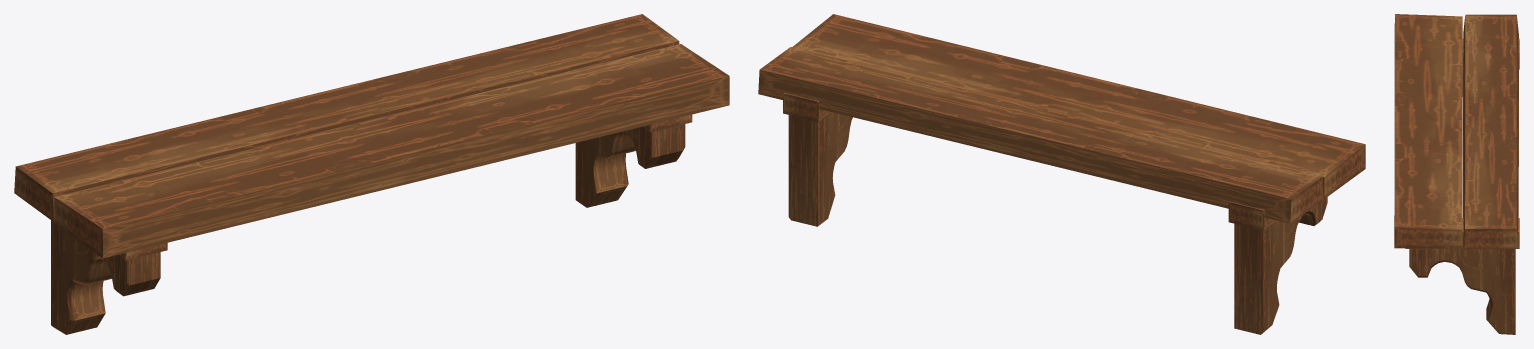
File: Shelf_Simple.gltf
3 views of the same model, side by side, from view 1: azimuth 30°, elevation 25°; view 2: azimuth 150°, elevation 25°; view 3: azimuth 270°, elevation 25° (orthographic). The views are drawn at different scales.
Parts seen in each view (by area): view 1: Shelf_Simple; view 2: Shelf_Simple; view 3: Shelf_Simple.
Part boxes in pixels (left/top/right/bottom): Shelf_Simple: left=14, top=14, right=729, bottom=334; Shelf_Simple: left=758, top=14, right=1365, bottom=334; Shelf_Simple: left=1394, top=14, right=1519, bottom=334.
Size of the model in its own units: 1.18 by 0.3087 by 0.2923.
1 material, 1 textured.
